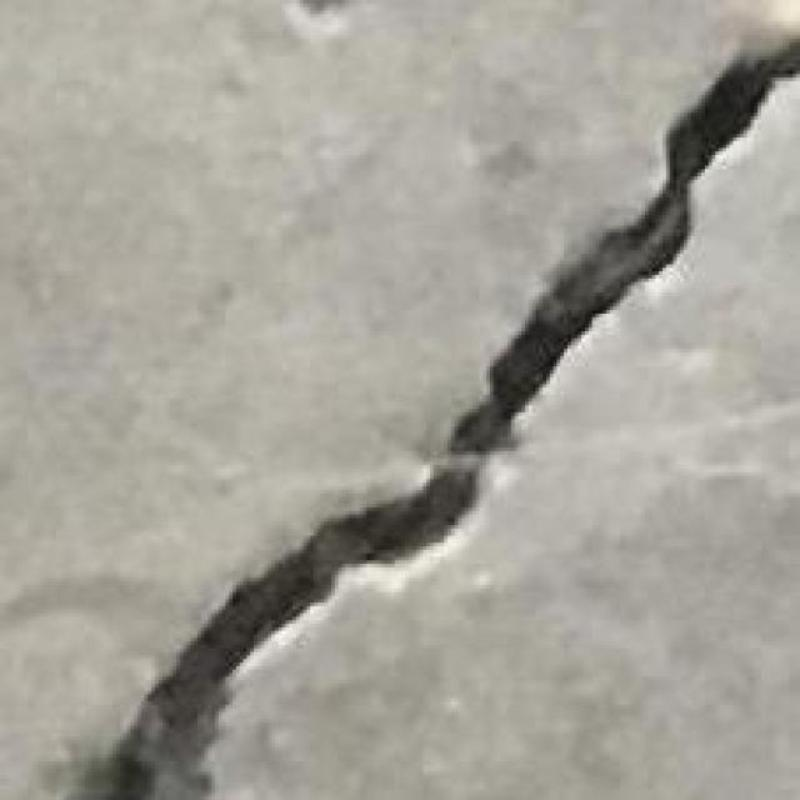pothole: (79, 36, 799, 799)
